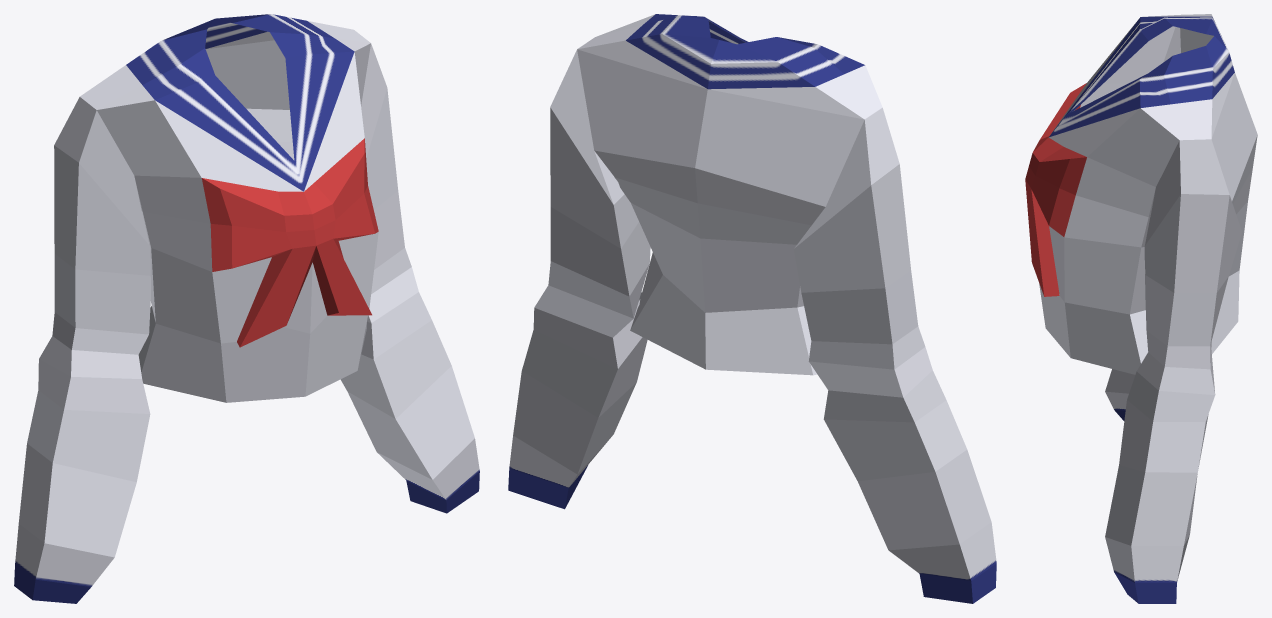
File: sailorShirt.fbx
The picture shows the model from 3 angles, left to right: view 1: azimuth 30°, elevation 25°; view 2: azimuth 150°, elevation 25°; view 3: azimuth 270°, elevation 25°; orthographic projection. The views are drawn at different scales.
Visible parts, largest first — view 1: SailorShirt; view 2: SailorShirt; view 3: SailorShirt.
Boxes of the visible parts, x1=… form: SailorShirt: x1=14, y1=14, x2=479, y2=603; SailorShirt: x1=508, y1=14, x2=996, y2=603; SailorShirt: x1=1025, y1=14, x2=1257, y2=603.
Size of the model in its own units: 123 by 133 by 59.22.
